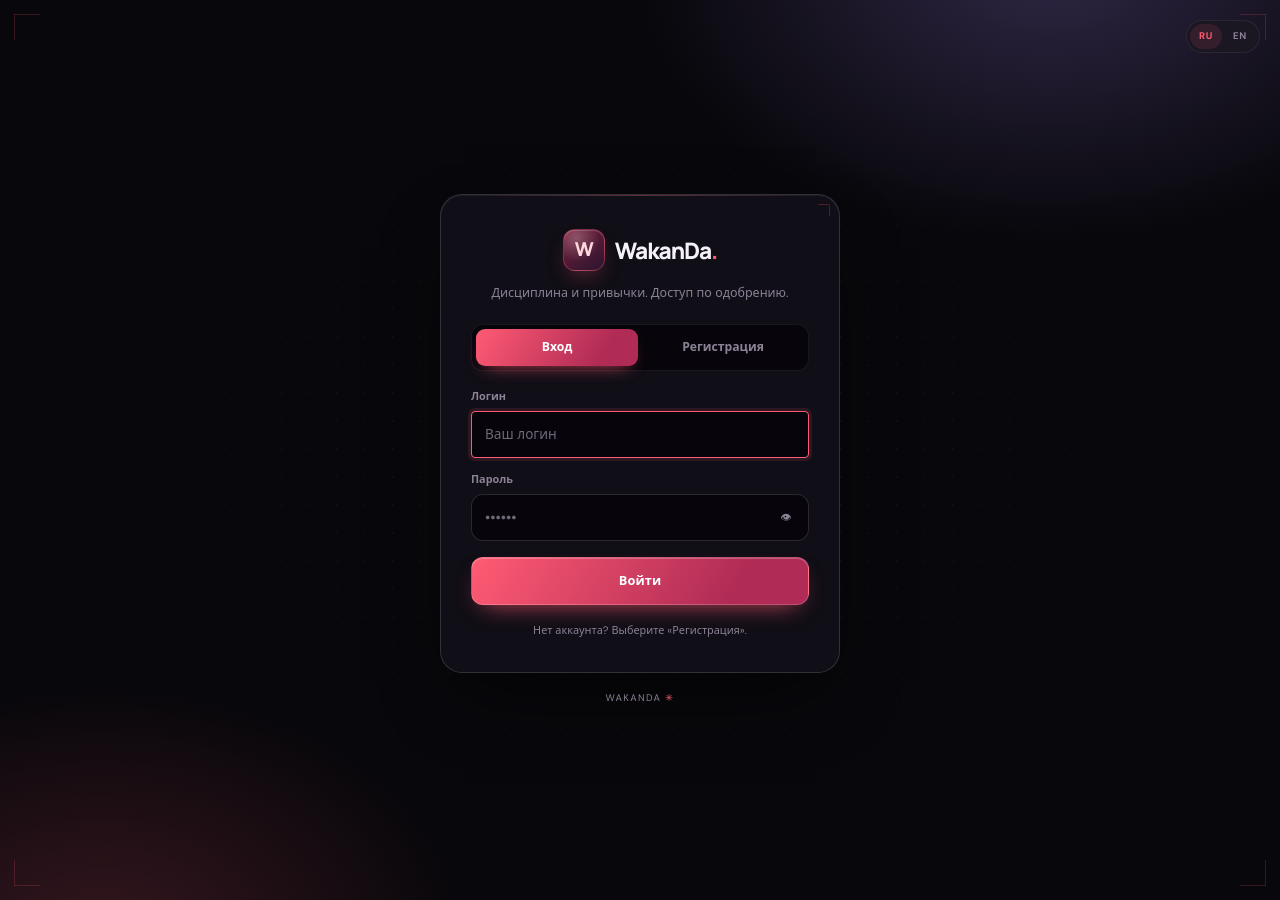
Scenario: AuthScreen › ловит несовпадение паролей до запроса к серверу
The image size is (1280, 900).
Step 1. Click the tab "Регистрация" → click(723, 347), box [642,329,804,366]
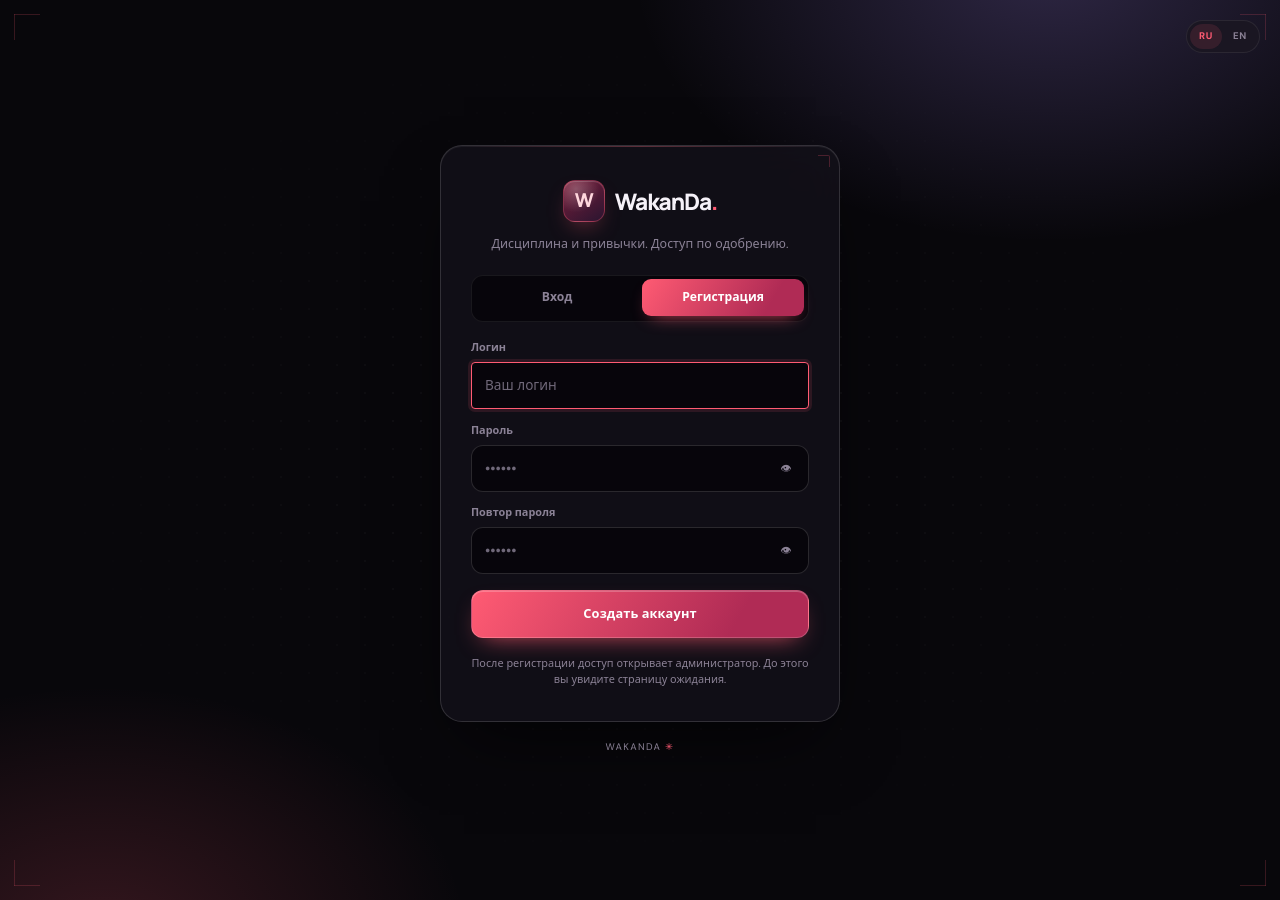
Step 2. Type "ivan_01" into the field labelled "Логин" → (640, 385), box [471,361,809,408]
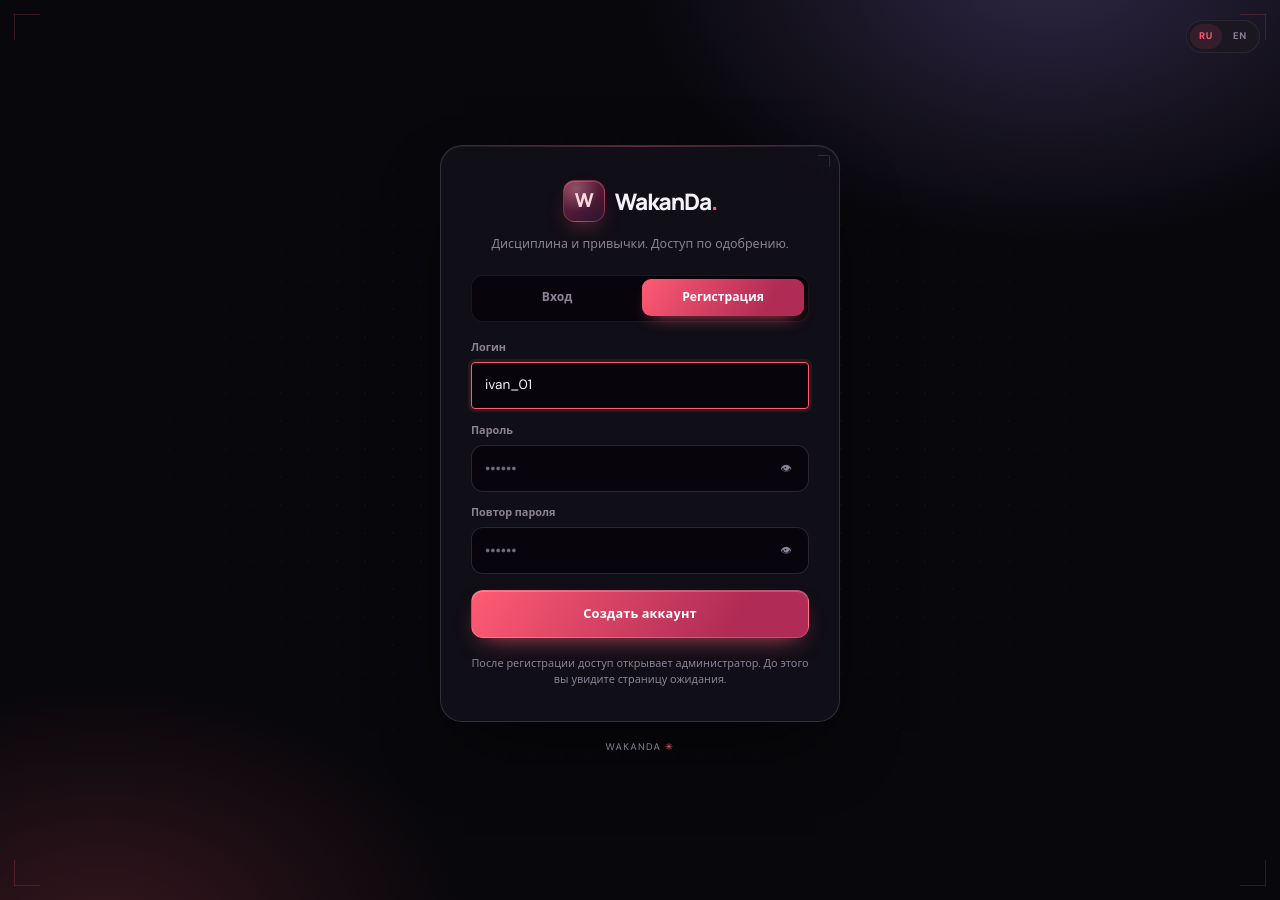
Step 3. Type "secret1" into the password field labelled "Пароль" → (640, 468), box [471,444,809,491]
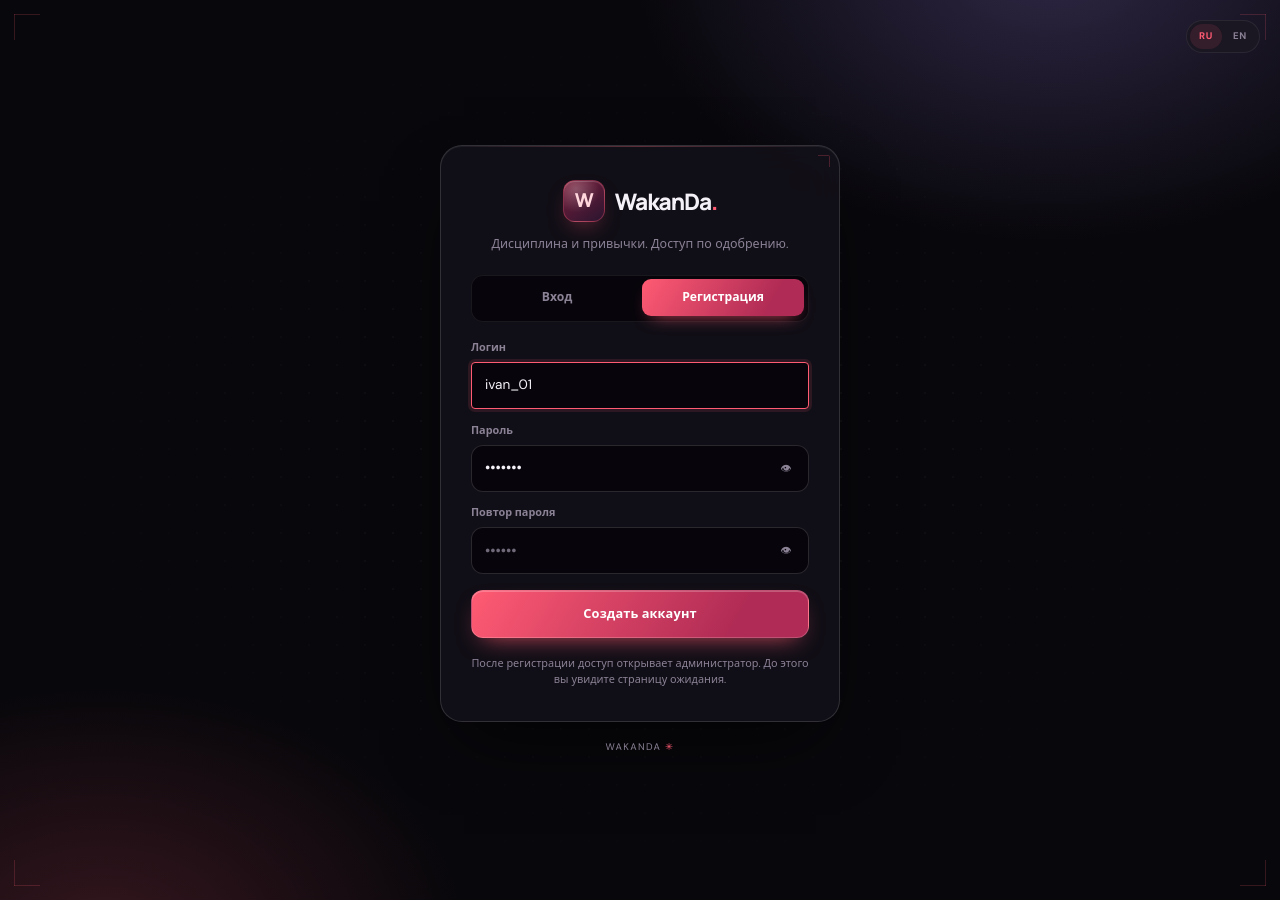
Step 4. Type "secret2" into the password field labelled "Повтор пароля" → (640, 550), box [471,527,809,574]
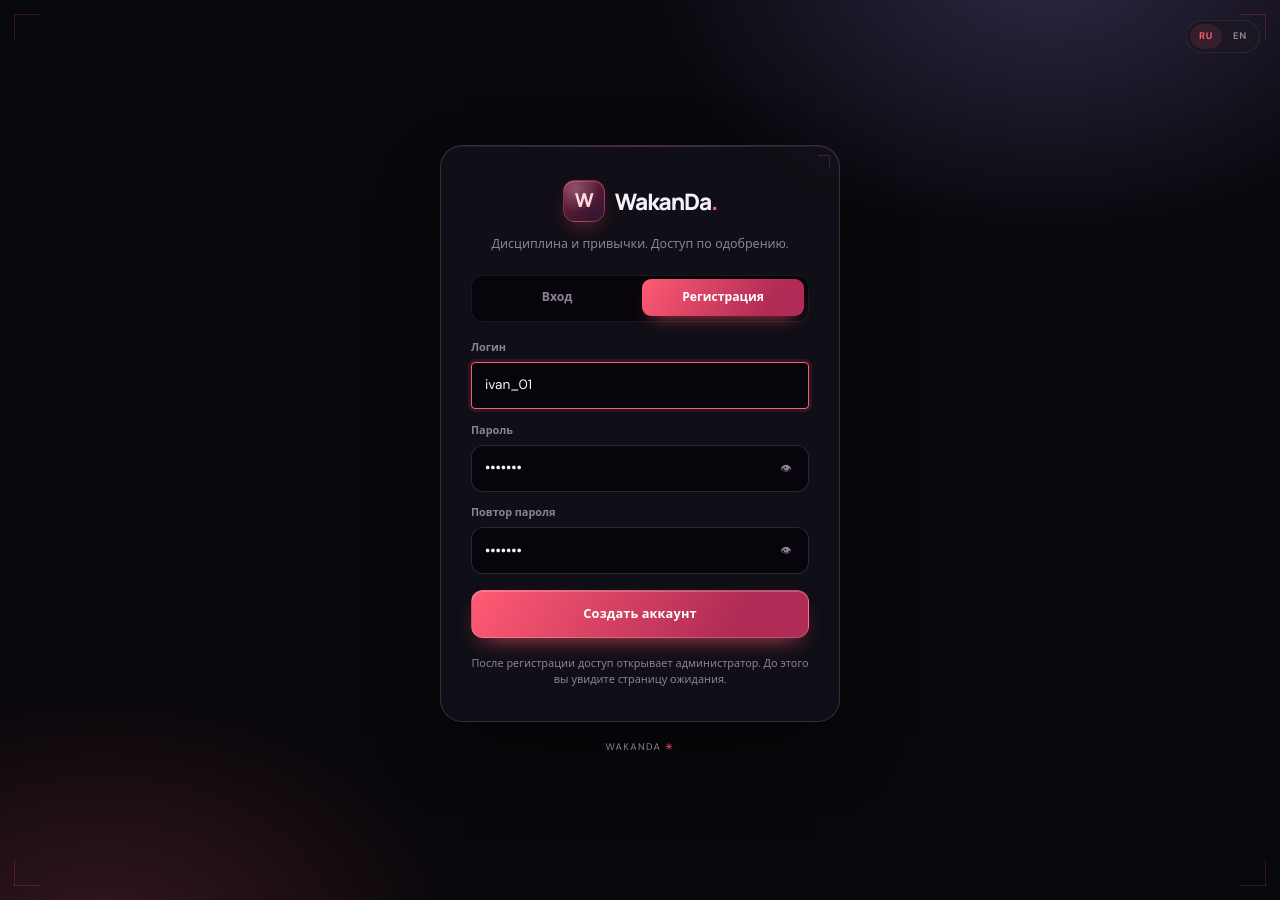
Step 5. Click the button "Создать аккаунт" → click(640, 614), box [471,590,809,638]
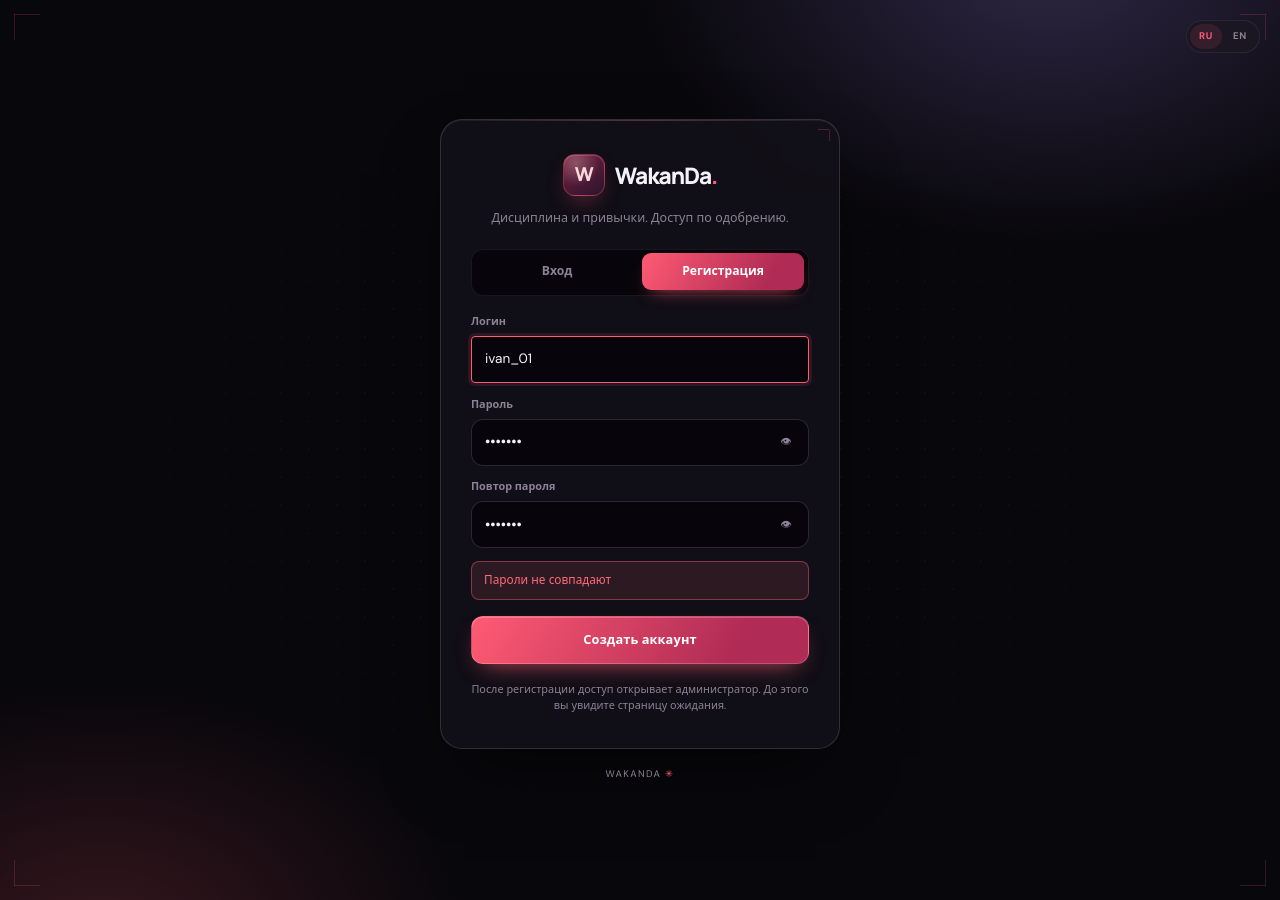
Now the message reads "Пароли не совпадают", box [484,572,611,588]
